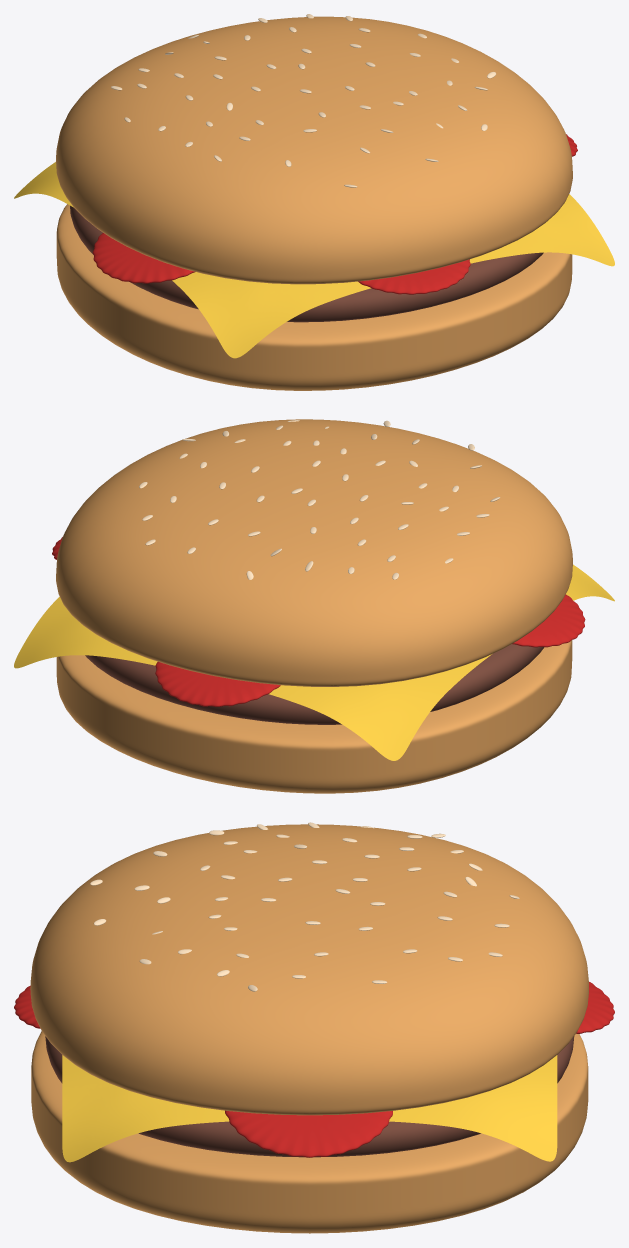
File: hambergerFinal.glb
3 views of the same model, one above another, from view 1: azimuth 30°, elevation 25°; view 2: azimuth 150°, elevation 25°; view 3: azimuth 270°, elevation 25° (orthographic). The views are drawn at different scales.
Visible parts, largest first — view 1: hamburger; view 2: hamburger; view 3: hamburger.
Boxes of the visible parts, left/top/right/bottom form: hamburger: left=14, top=14, right=614, bottom=390; hamburger: left=14, top=419, right=614, bottom=793; hamburger: left=14, top=822, right=614, bottom=1233.
Bounding box in the file's own units: 10.29 × 4.65 × 9.92.
